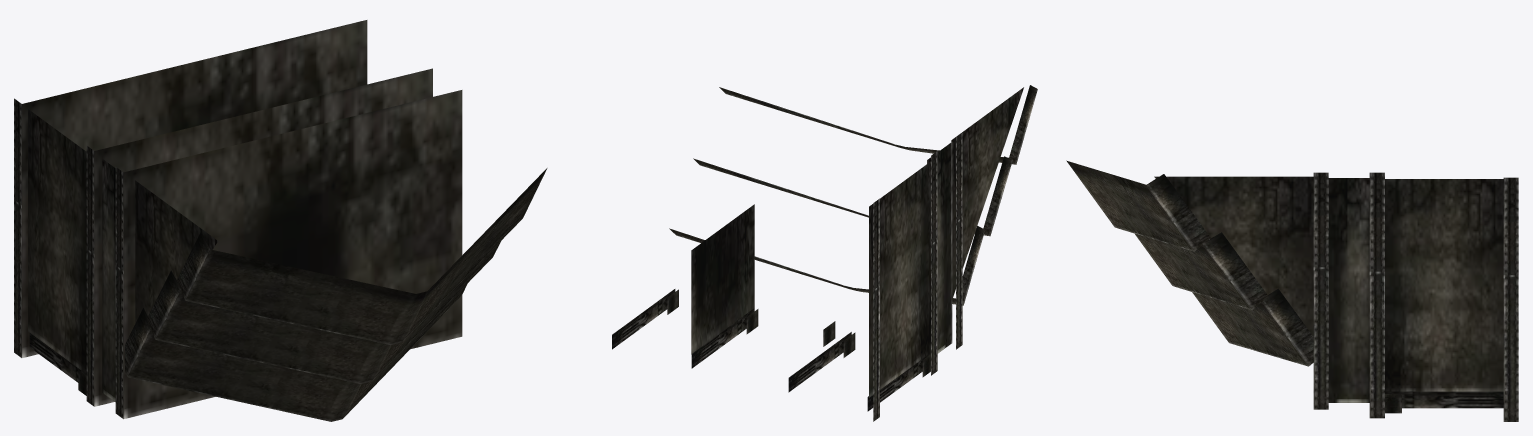
3 views of the same model, side by side, from view 1: azimuth 30°, elevation 25°; view 2: azimuth 150°, elevation 25°; view 3: azimuth 270°, elevation 25° (orthographic). The views are drawn at different scales.
Visible parts, largest first — view 1: model_Object15; view 2: model_Object15; view 3: model_Object15.
Boxes of the visible parts, x1,y1,x2,y2 form: model_Object15: (14, 20, 547, 421); model_Object15: (612, 85, 1037, 421); model_Object15: (1066, 160, 1518, 421).
Bounding box in the file's own units: 3.01 × 2.14 × 3.55.
Materials: 1 (1 with a texture image).
